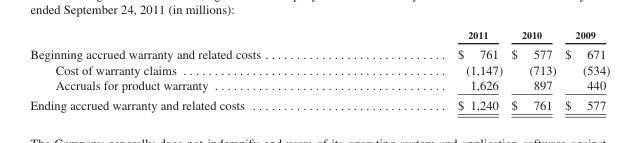table: (29, 28, 609, 111)
table column: (29, 28, 358, 111), (358, 28, 506, 111), (506, 28, 559, 111), (559, 28, 609, 111)
table column header: (29, 28, 609, 43)
table row: (29, 43, 609, 61), (29, 76, 609, 94), (29, 94, 609, 111), (29, 28, 609, 43), (29, 61, 609, 76)
